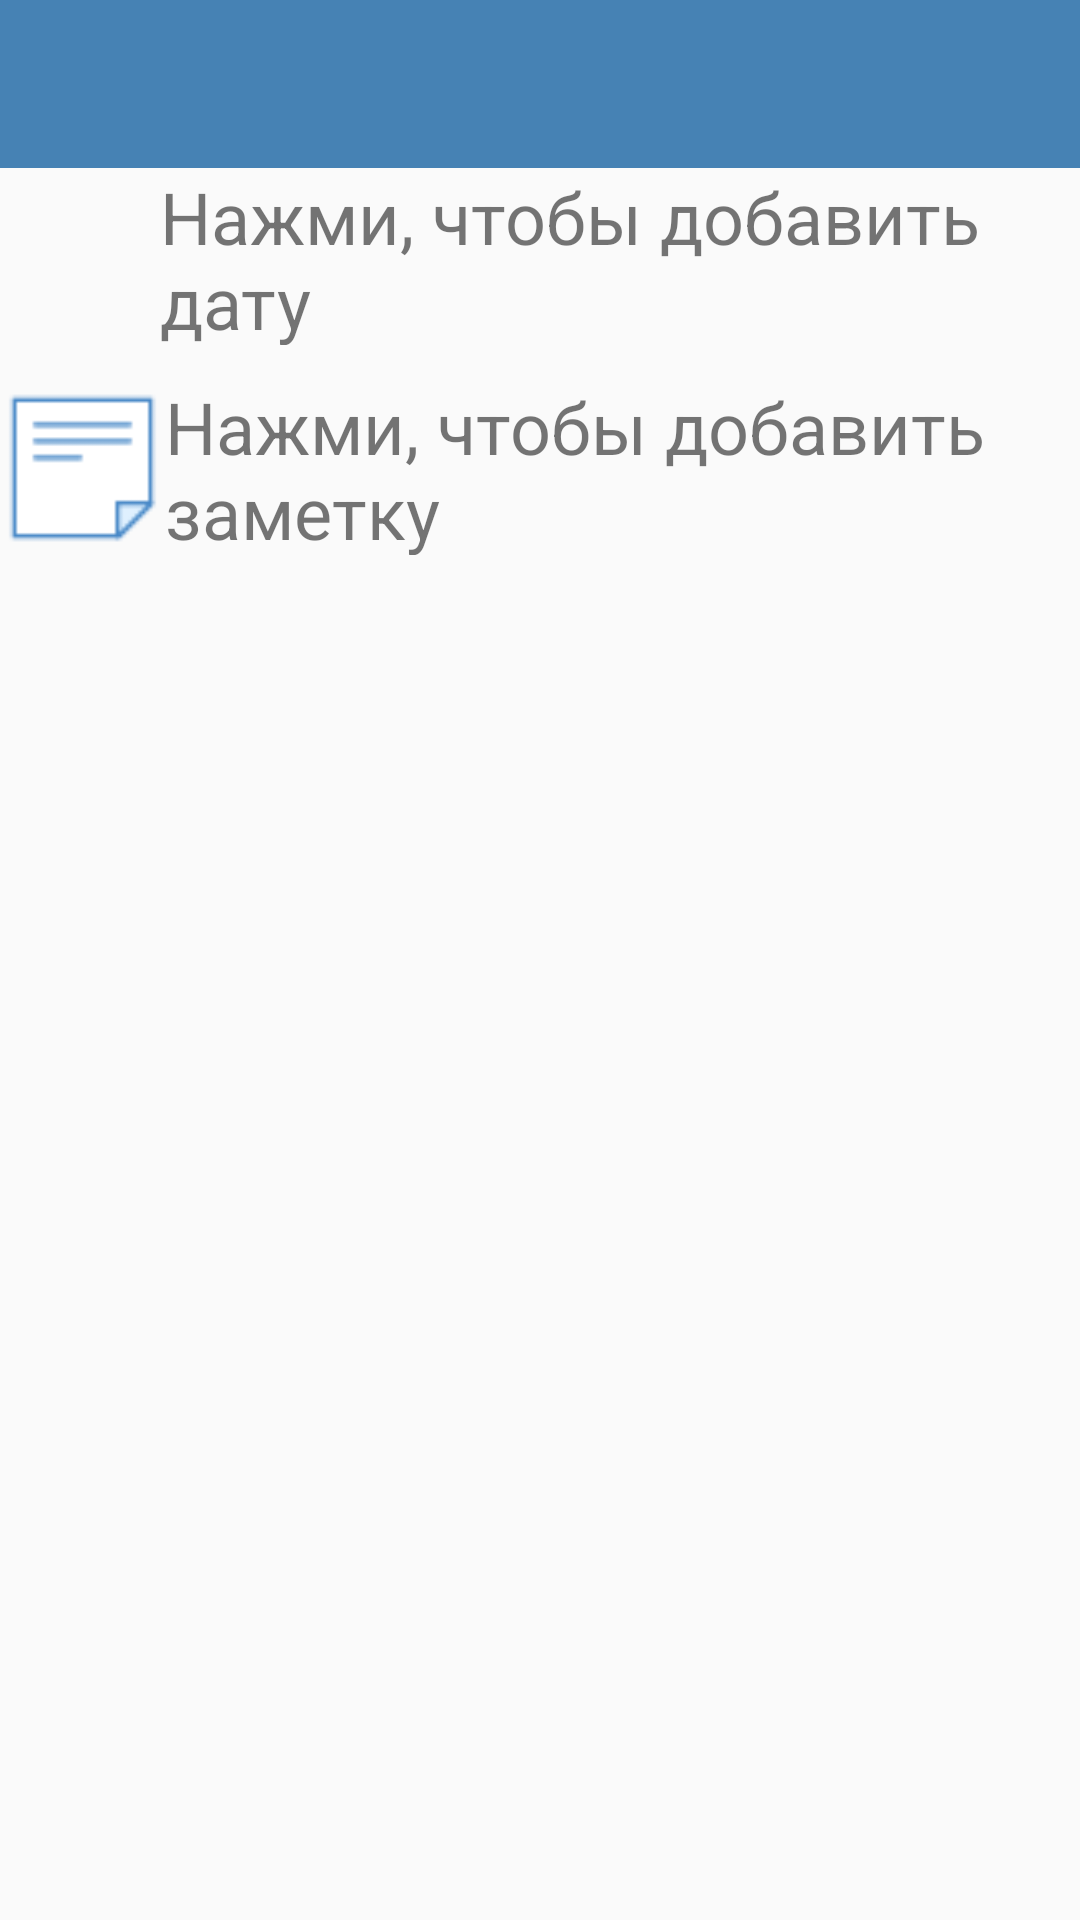

Icon bounding boxes for this 1080w x 1920h phone screenshot, format (x1,y1,x2,y2):
note: (10,395,156,541)
